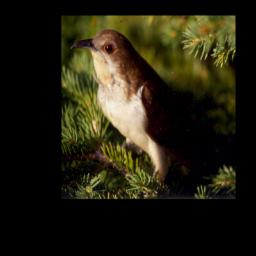Cuckoo: (70, 28, 229, 184)
